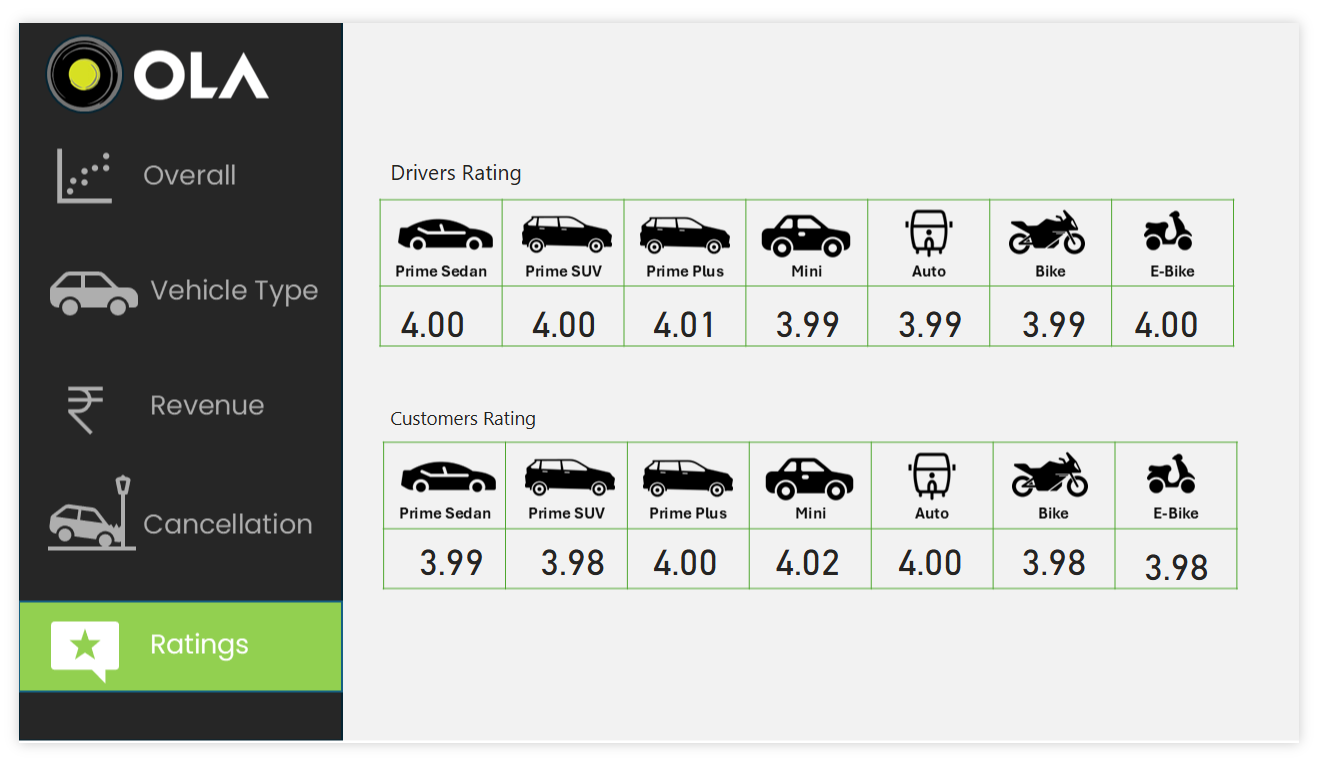

What the dashboard file says about the page in this screenshot:
{"tool":"powerbi","page":{"name":"Ratings","canvas":[1280,720],"ordinal":4},"visuals":[{"type":"actionButton","box":[1.3,446.8,325.3,89.9],"z":0},{"type":"actionButton","box":[0,341.8,325.3,89.9],"z":1000},{"type":"actionButton","box":[0,220.3,325.3,89.9],"z":2000},{"type":"actionButton","box":[0,105.1,325.3,89.9],"z":3000},{"type":"card","fields":{"Values":["Avg(July.Driver_Ratings)"]},"box":[357,274.7,112.7,45.6],"z":4000},{"type":"card","fields":{"Values":["Avg(July.Driver_Ratings)"]},"box":[488.6,274.7,112.7,45.6],"z":5000},{"type":"card","fields":{"Values":["Avg(July.Driver_Ratings)"]},"box":[610.1,274.7,112.7,45.6],"z":6000},{"type":"card","fields":{"Values":["Avg(July.Driver_Ratings)"]},"box":[732.9,274.7,112.7,45.6],"z":7000},{"type":"card","fields":{"Values":["Avg(July.Driver_Ratings)"]},"box":[854.4,274.7,112.7,45.6],"z":8000},{"type":"card","fields":{"Values":["Avg(July.Driver_Ratings)"]},"box":[978.5,274.7,112.7,45.6],"z":9000},{"type":"card","fields":{"Values":["Avg(July.Driver_Ratings)"]},"box":[1091.1,274.7,112.7,45.6],"z":10000},{"type":"card","fields":{"Values":["Avg(July.Customer_Rating)"]},"box":[375.9,513.9,112.7,45.6],"z":11000},{"type":"card","fields":{"Values":["Avg(July.Customer_Rating)"]},"box":[497.5,513.9,112.7,45.6],"z":12000},{"type":"card","fields":{"Values":["Avg(July.Customer_Rating)"]},"box":[610.1,513.9,112.7,45.6],"z":13000},{"type":"card","fields":{"Values":["Avg(July.Customer_Rating)"]},"box":[732.9,513.9,112.7,45.6],"z":14000},{"type":"card","fields":{"Values":["Avg(July.Customer_Rating)"]},"box":[854.4,513.9,112.7,45.6],"z":15000},{"type":"card","fields":{"Values":["Avg(July.Customer_Rating)"]},"box":[978.5,513.9,112.7,45.6],"z":16000},{"type":"card","fields":{"Values":["Avg(July.Customer_Rating)"]},"box":[1101.3,513.9,112.7,55.7],"z":17000},{"type":"textbox","box":[357,129.1,159.5,43],"z":18000},{"type":"textbox","box":[365.8,377.2,169.6,38],"z":19000}]}

Visuals, with their boxes on the page's 1280x720 design canvas (x1, y1, x2, y2). These are canvas units, not pixel positions in the 1320x762 screenshot, which may show the page scaled, cropped or inside an application window:
actionButton: (1,447,327,537)
actionButton: (0,342,325,432)
actionButton: (0,220,325,310)
actionButton: (0,105,325,195)
card - Avg(July.Driver_Ratings): (357,275,470,320)
card - Avg(July.Driver_Ratings): (489,275,601,320)
card - Avg(July.Driver_Ratings): (610,275,723,320)
card - Avg(July.Driver_Ratings): (733,275,846,320)
card - Avg(July.Driver_Ratings): (854,275,967,320)
card - Avg(July.Driver_Ratings): (978,275,1091,320)
card - Avg(July.Driver_Ratings): (1091,275,1204,320)
card - Avg(July.Customer_Rating): (376,514,489,560)
card - Avg(July.Customer_Rating): (498,514,610,560)
card - Avg(July.Customer_Rating): (610,514,723,560)
card - Avg(July.Customer_Rating): (733,514,846,560)
card - Avg(July.Customer_Rating): (854,514,967,560)
card - Avg(July.Customer_Rating): (978,514,1091,560)
card - Avg(July.Customer_Rating): (1101,514,1214,570)
textbox: (357,129,516,172)
textbox: (366,377,535,415)
